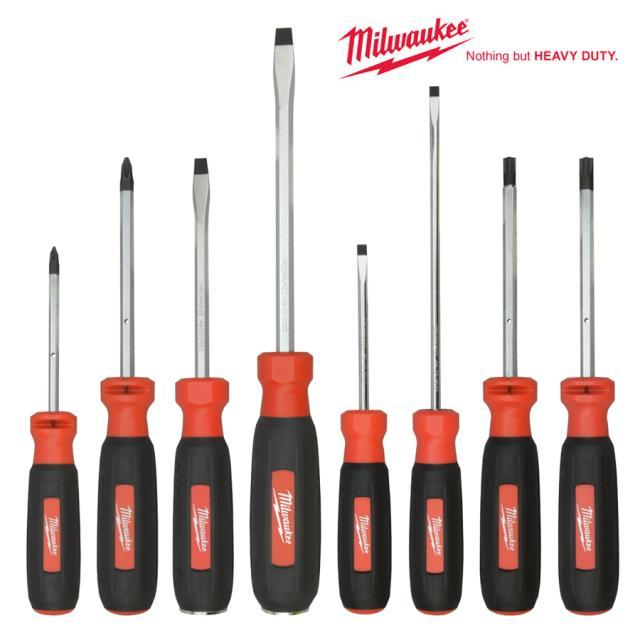screwdriver: (244, 20, 326, 618), (404, 75, 468, 622), (475, 152, 546, 618), (93, 152, 162, 620), (168, 152, 237, 620), (554, 150, 621, 620), (17, 240, 82, 620), (334, 238, 396, 618)
